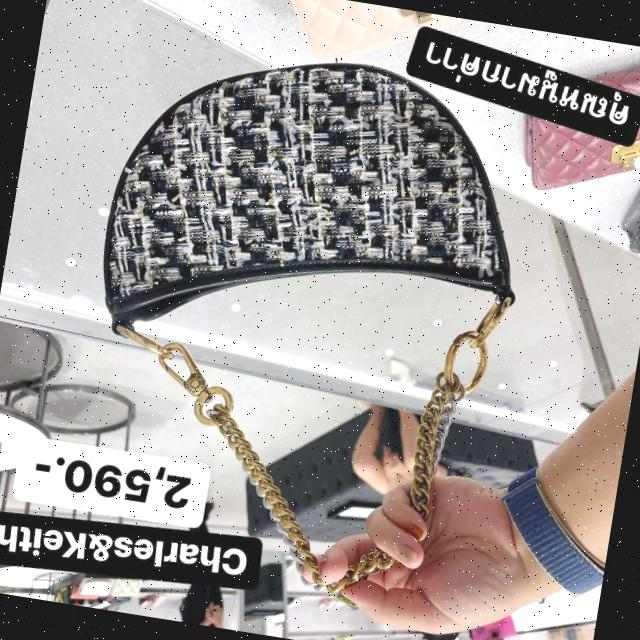Handbag: (83, 26, 540, 390)
